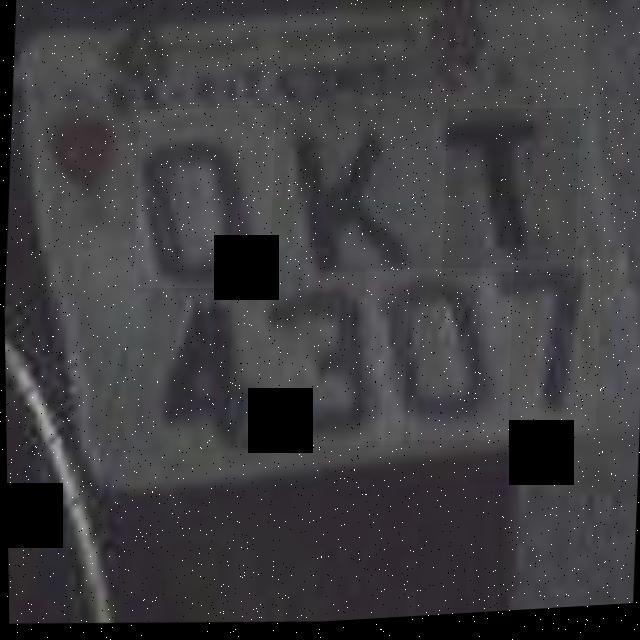0: (356, 266, 515, 454)
3: (224, 267, 411, 458)
4: (131, 266, 279, 476)
7: (472, 260, 603, 447)
O: (130, 105, 278, 298)
T: (439, 108, 582, 289)
X: (271, 113, 433, 289)
